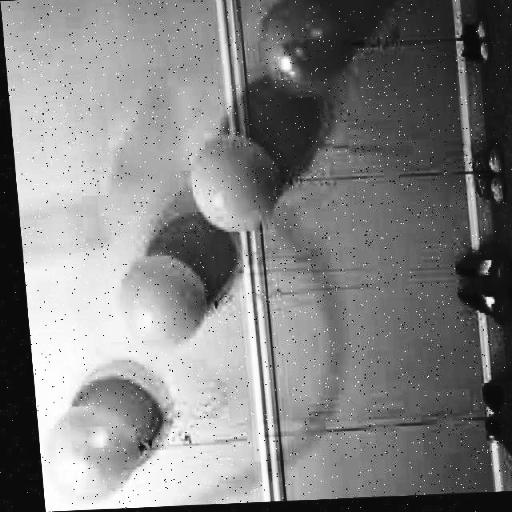balloon: (30, 400, 139, 507), (252, 0, 358, 99), (184, 134, 282, 235), (113, 252, 208, 354)
